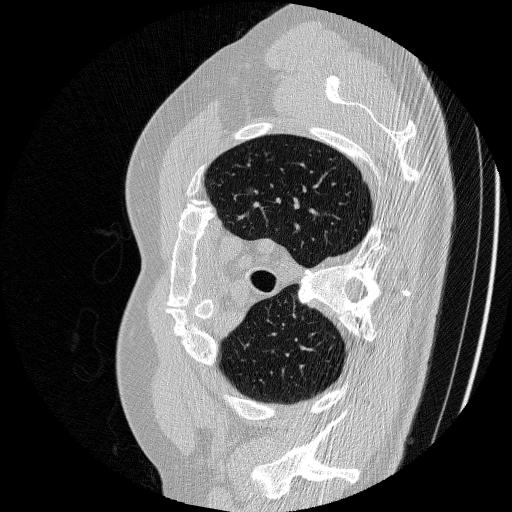nodule: (242, 184, 257, 199)
